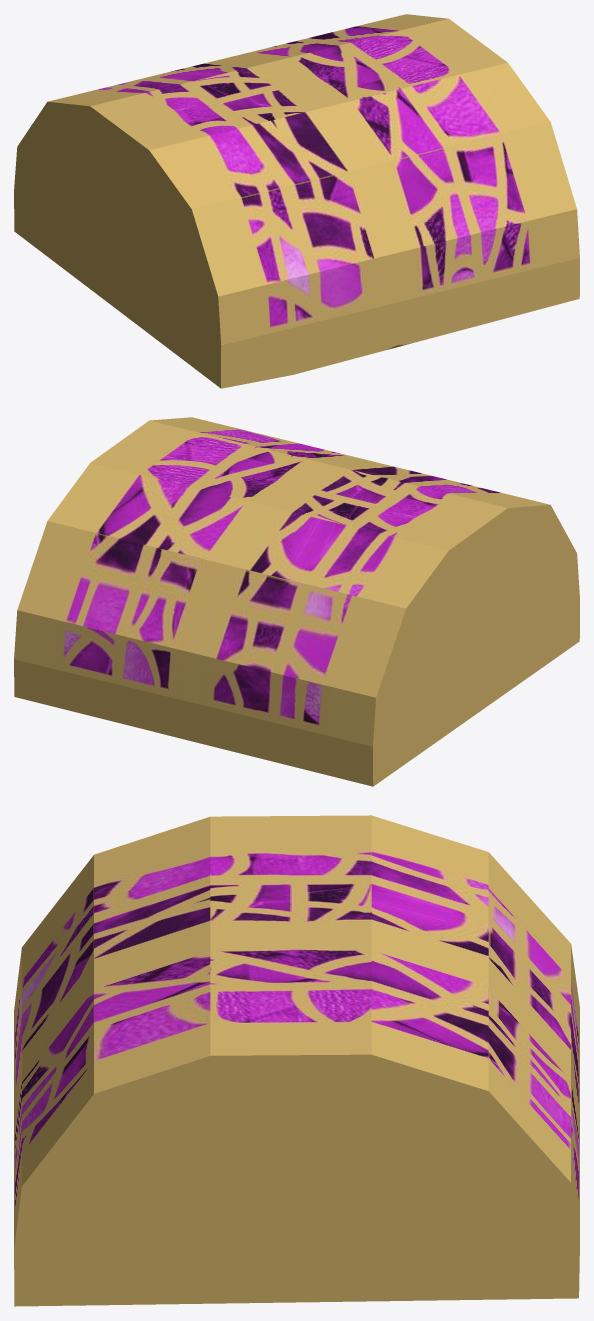
The model's file is chesTop4Compressed.glb.
3 renders of one model, top to bottom at view 1: azimuth 30°, elevation 25°; view 2: azimuth 150°, elevation 25°; view 3: azimuth 270°, elevation 25°, orthographic. The views are drawn at different scales.
Parts seen in each view (by area): view 1: chest01.001; view 2: chest01.001; view 3: chest01.001.
Part boxes in pixels (bbox=[...]): chest01.001: bbox=[14, 14, 579, 388]; chest01.001: bbox=[14, 417, 579, 786]; chest01.001: bbox=[14, 815, 579, 1306].
Size of the model in its own units: 1 by 0.5074 by 1.
Materials: 1 (1 with a texture image).
